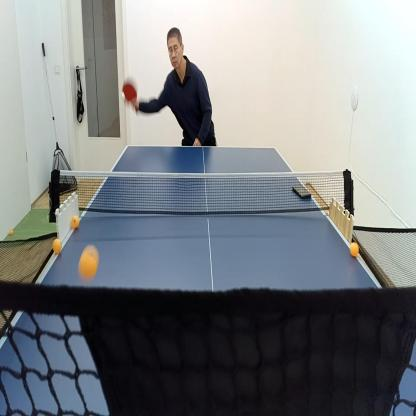Ball: (76, 241, 101, 281), (350, 241, 359, 258), (53, 238, 62, 254), (71, 215, 80, 230), (120, 90, 126, 103), (9, 228, 13, 236)
